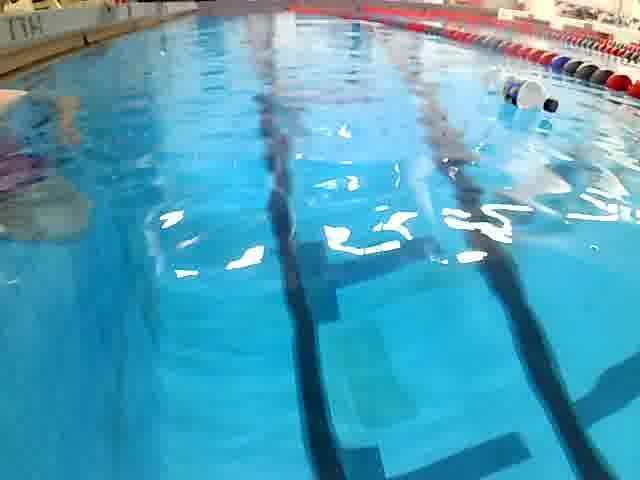Bottle: (476, 69, 575, 121)
